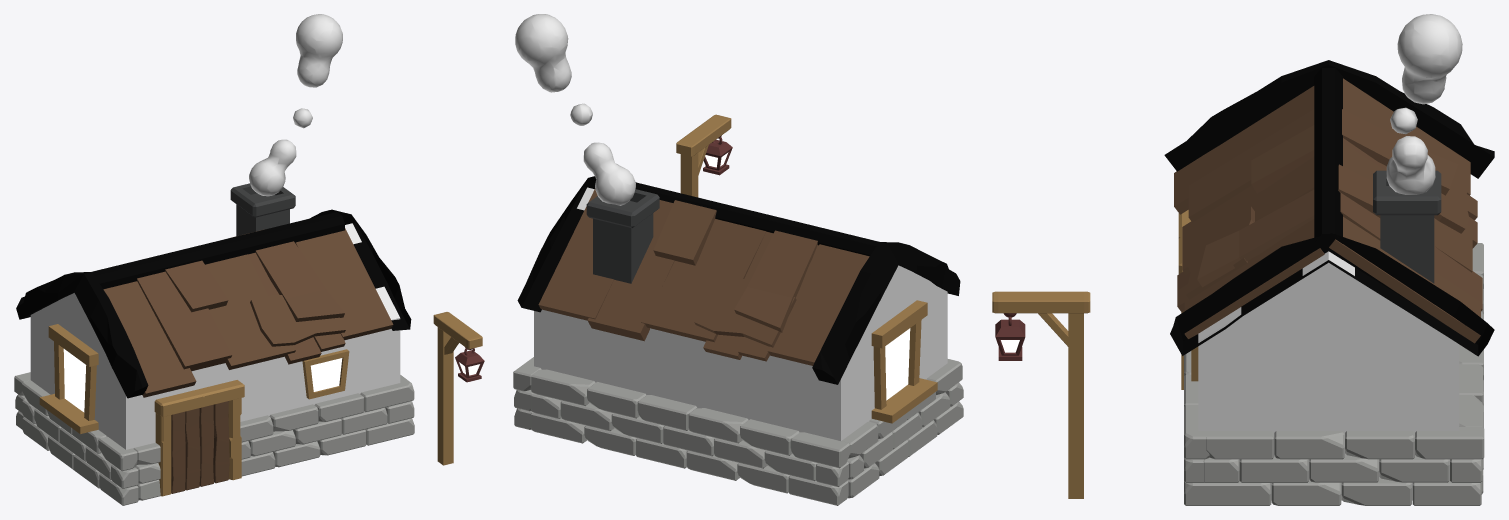
The model's file is house.fbx.
The picture shows the model from 3 angles, left to right: view 1: azimuth 30°, elevation 25°; view 2: azimuth 150°, elevation 25°; view 3: azimuth 270°, elevation 25°; orthographic projection. The views are drawn at different scales.
Visible parts, largest first — view 1: 屋顶, 砖, 房屋主体, 门, 融球, 门框, 路灯柱子, 侧面窗框, 烟囱, 窗口, 正面窗框, 正面窗口 (+1 smaller); view 2: 屋顶, 砖, 房屋主体, 融球, 烟囱, 侧面窗框, 路灯柱子, 窗口, 路灯; view 3: 屋顶, 房屋主体, 砖, 融球, 路灯柱子, 烟囱, 路灯.
Part boxes in pixels (left/top/right/bottom): 屋顶: left=16, top=209, right=411, bottom=398; 砖: left=14, top=372, right=414, bottom=505; 房屋主体: left=30, top=223, right=400, bottom=449; 门: left=171, top=401, right=229, bottom=493; 融球: left=249, top=14, right=342, bottom=196; 门框: left=154, top=380, right=244, bottom=496; 路灯柱子: left=433, top=312, right=482, bottom=465; 侧面窗框: left=39, top=324, right=98, bottom=433; 烟囱: left=230, top=183, right=295, bottom=236; 窗口: left=63, top=349, right=86, bottom=412; 正面窗框: left=302, top=349, right=349, bottom=399; 正面窗口: left=310, top=358, right=342, bottom=391; 屋顶: left=517, top=176, right=960, bottom=384; 砖: left=513, top=357, right=963, bottom=505; 房屋主体: left=534, top=187, right=947, bottom=440; 融球: left=515, top=14, right=635, bottom=205; 烟囱: left=586, top=189, right=659, bottom=283; 侧面窗框: left=871, top=300, right=937, bottom=423; 路灯柱子: left=676, top=114, right=731, bottom=197; 窗口: left=885, top=328, right=910, bottom=400; 路灯: left=703, top=135, right=732, bottom=175; 屋顶: left=1164, top=60, right=1494, bottom=356; 房屋主体: left=1198, top=251, right=1459, bottom=500; 砖: left=1184, top=243, right=1484, bottom=505; 融球: left=1386, top=14, right=1462, bottom=194; 路灯柱子: left=992, top=291, right=1090, bottom=498; 烟囱: left=1373, top=170, right=1441, bottom=283; 路灯: left=995, top=313, right=1025, bottom=360.
Bounding box in the file's own units: 107 × 114 × 107.
